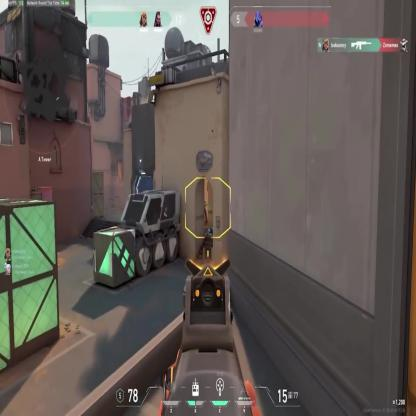enemy: (200, 197, 208, 225)
